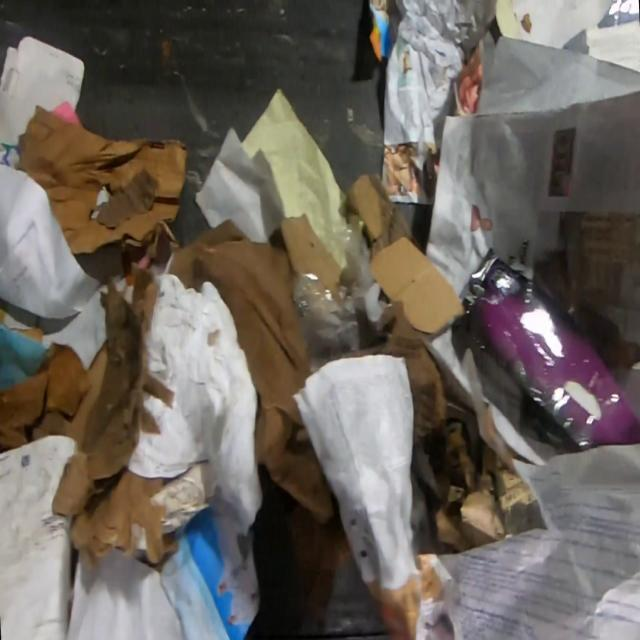cardboard: (27, 261, 179, 572), (450, 236, 640, 455), (14, 105, 190, 256), (345, 301, 448, 445), (433, 428, 548, 552), (0, 343, 92, 454), (0, 33, 86, 147), (372, 235, 464, 340), (344, 171, 424, 254), (277, 213, 339, 298), (18, 324, 45, 342)
soft_plastic: (291, 208, 392, 377), (596, 0, 639, 28)
